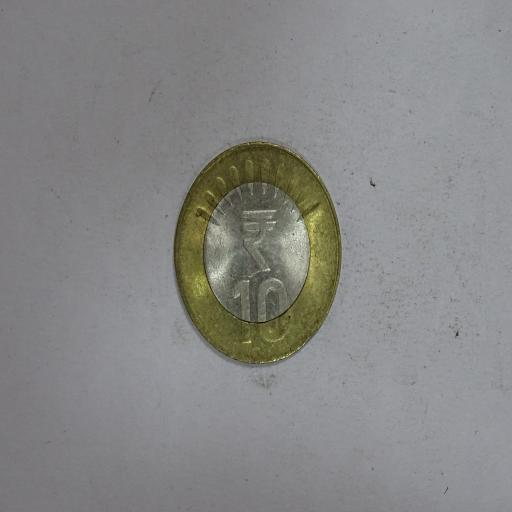rupee10: (172, 142, 342, 365)
